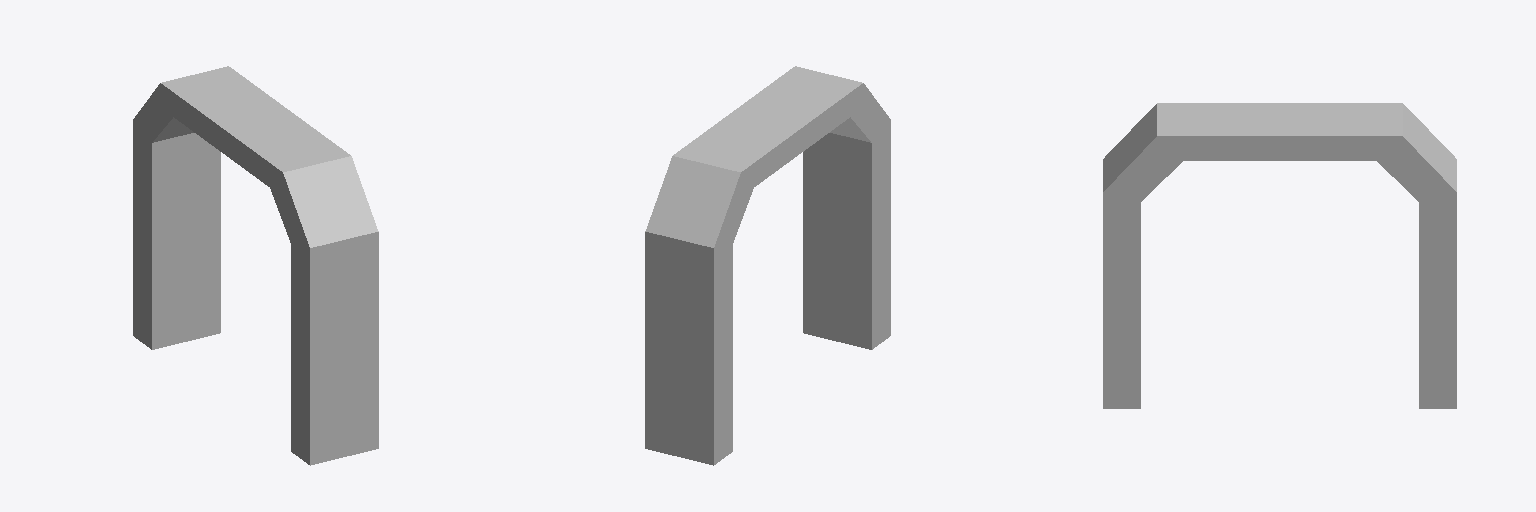
The model's file is doorFrame.obj.
3 renders of one model, left to right at view 1: azimuth 30°, elevation 25°; view 2: azimuth 150°, elevation 25°; view 3: azimuth 270°, elevation 25°, orthographic.
Bounding box in the file's own units: 0.7886 × 3.01 × 3.52.